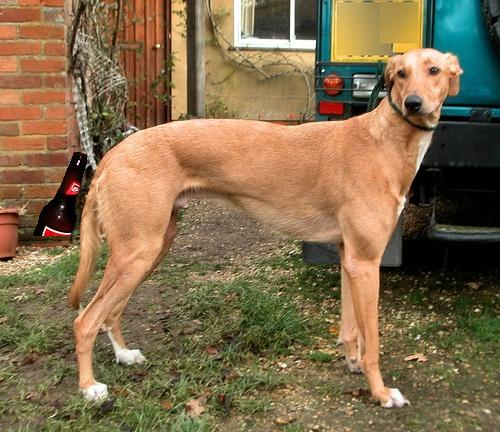tampered: (34, 153, 87, 236)
